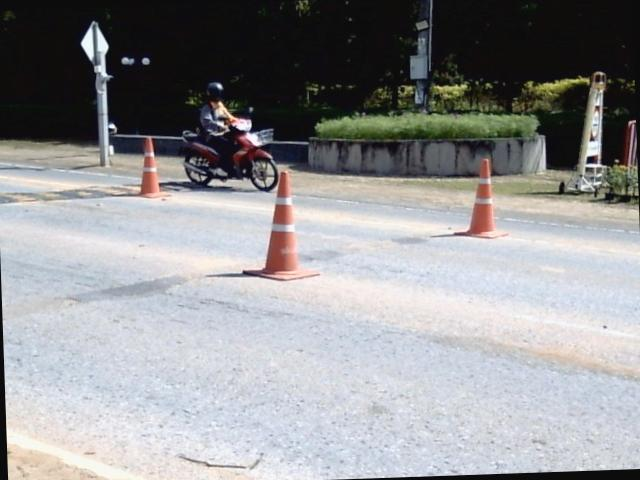helmet: (203, 75, 225, 101)
motor: (180, 118, 279, 191)
person: (200, 82, 236, 162)
